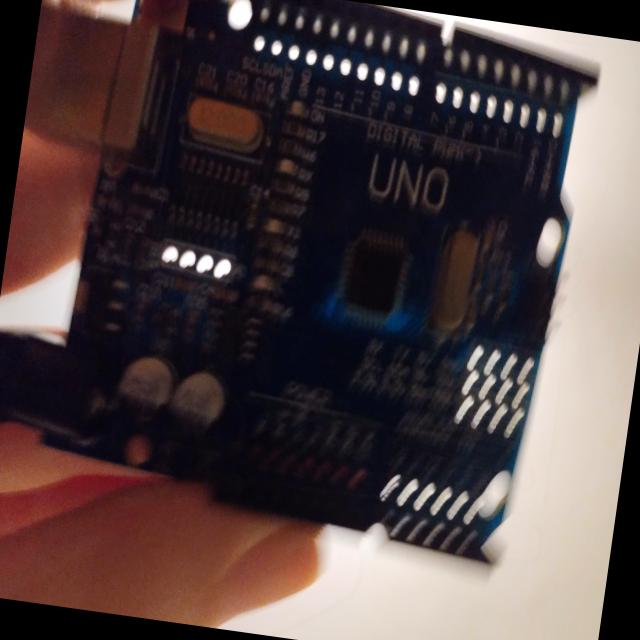arduino: (0, 0, 602, 572)
